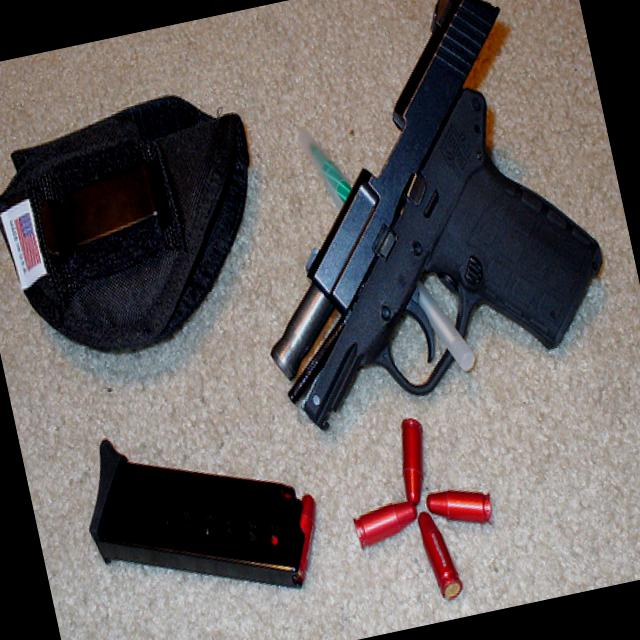handgun: (202, 0, 626, 439)
